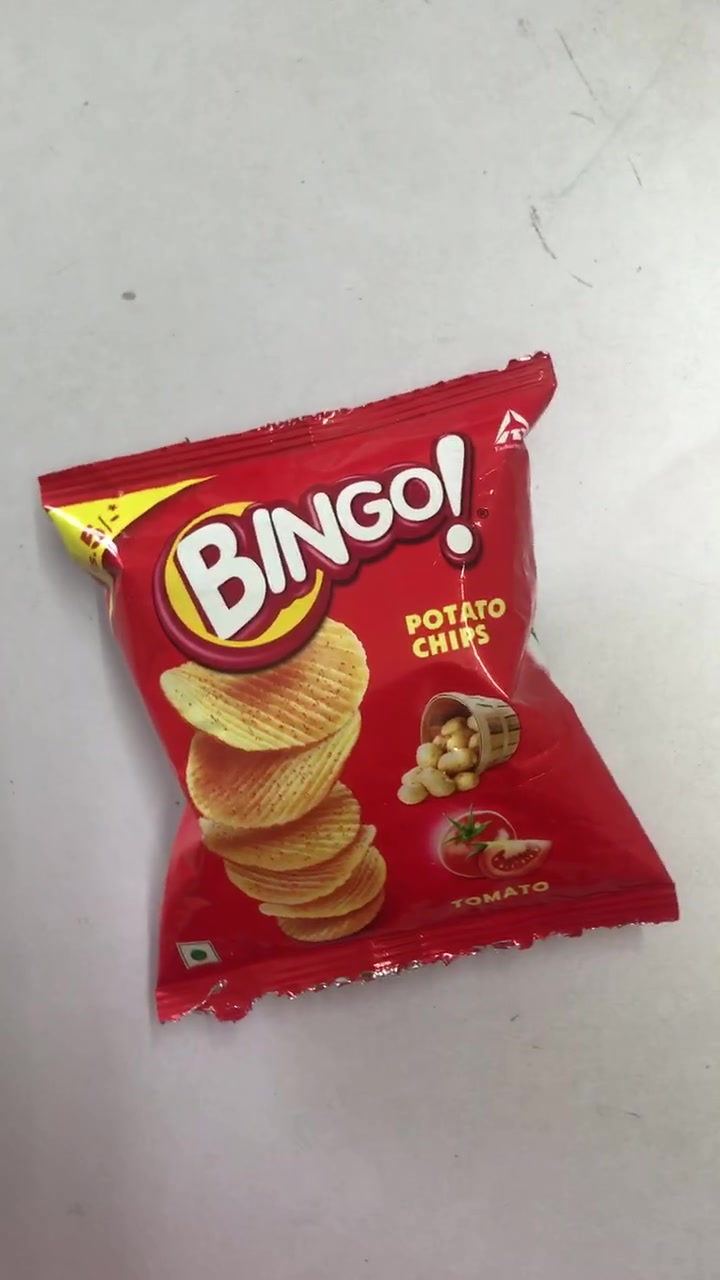Bingo: (45, 353, 683, 1020)
